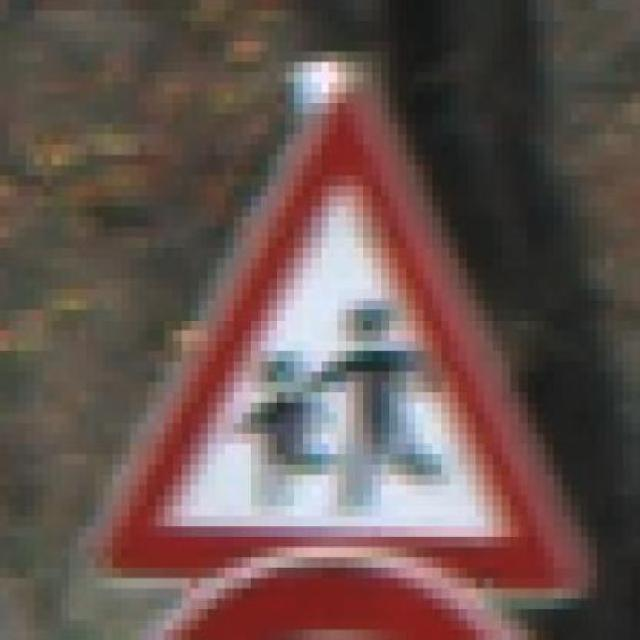Beware of children: (86, 51, 588, 609)
